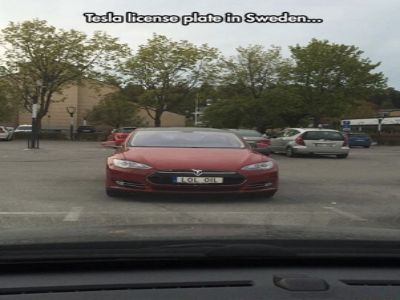licence: (178, 176, 225, 184)
